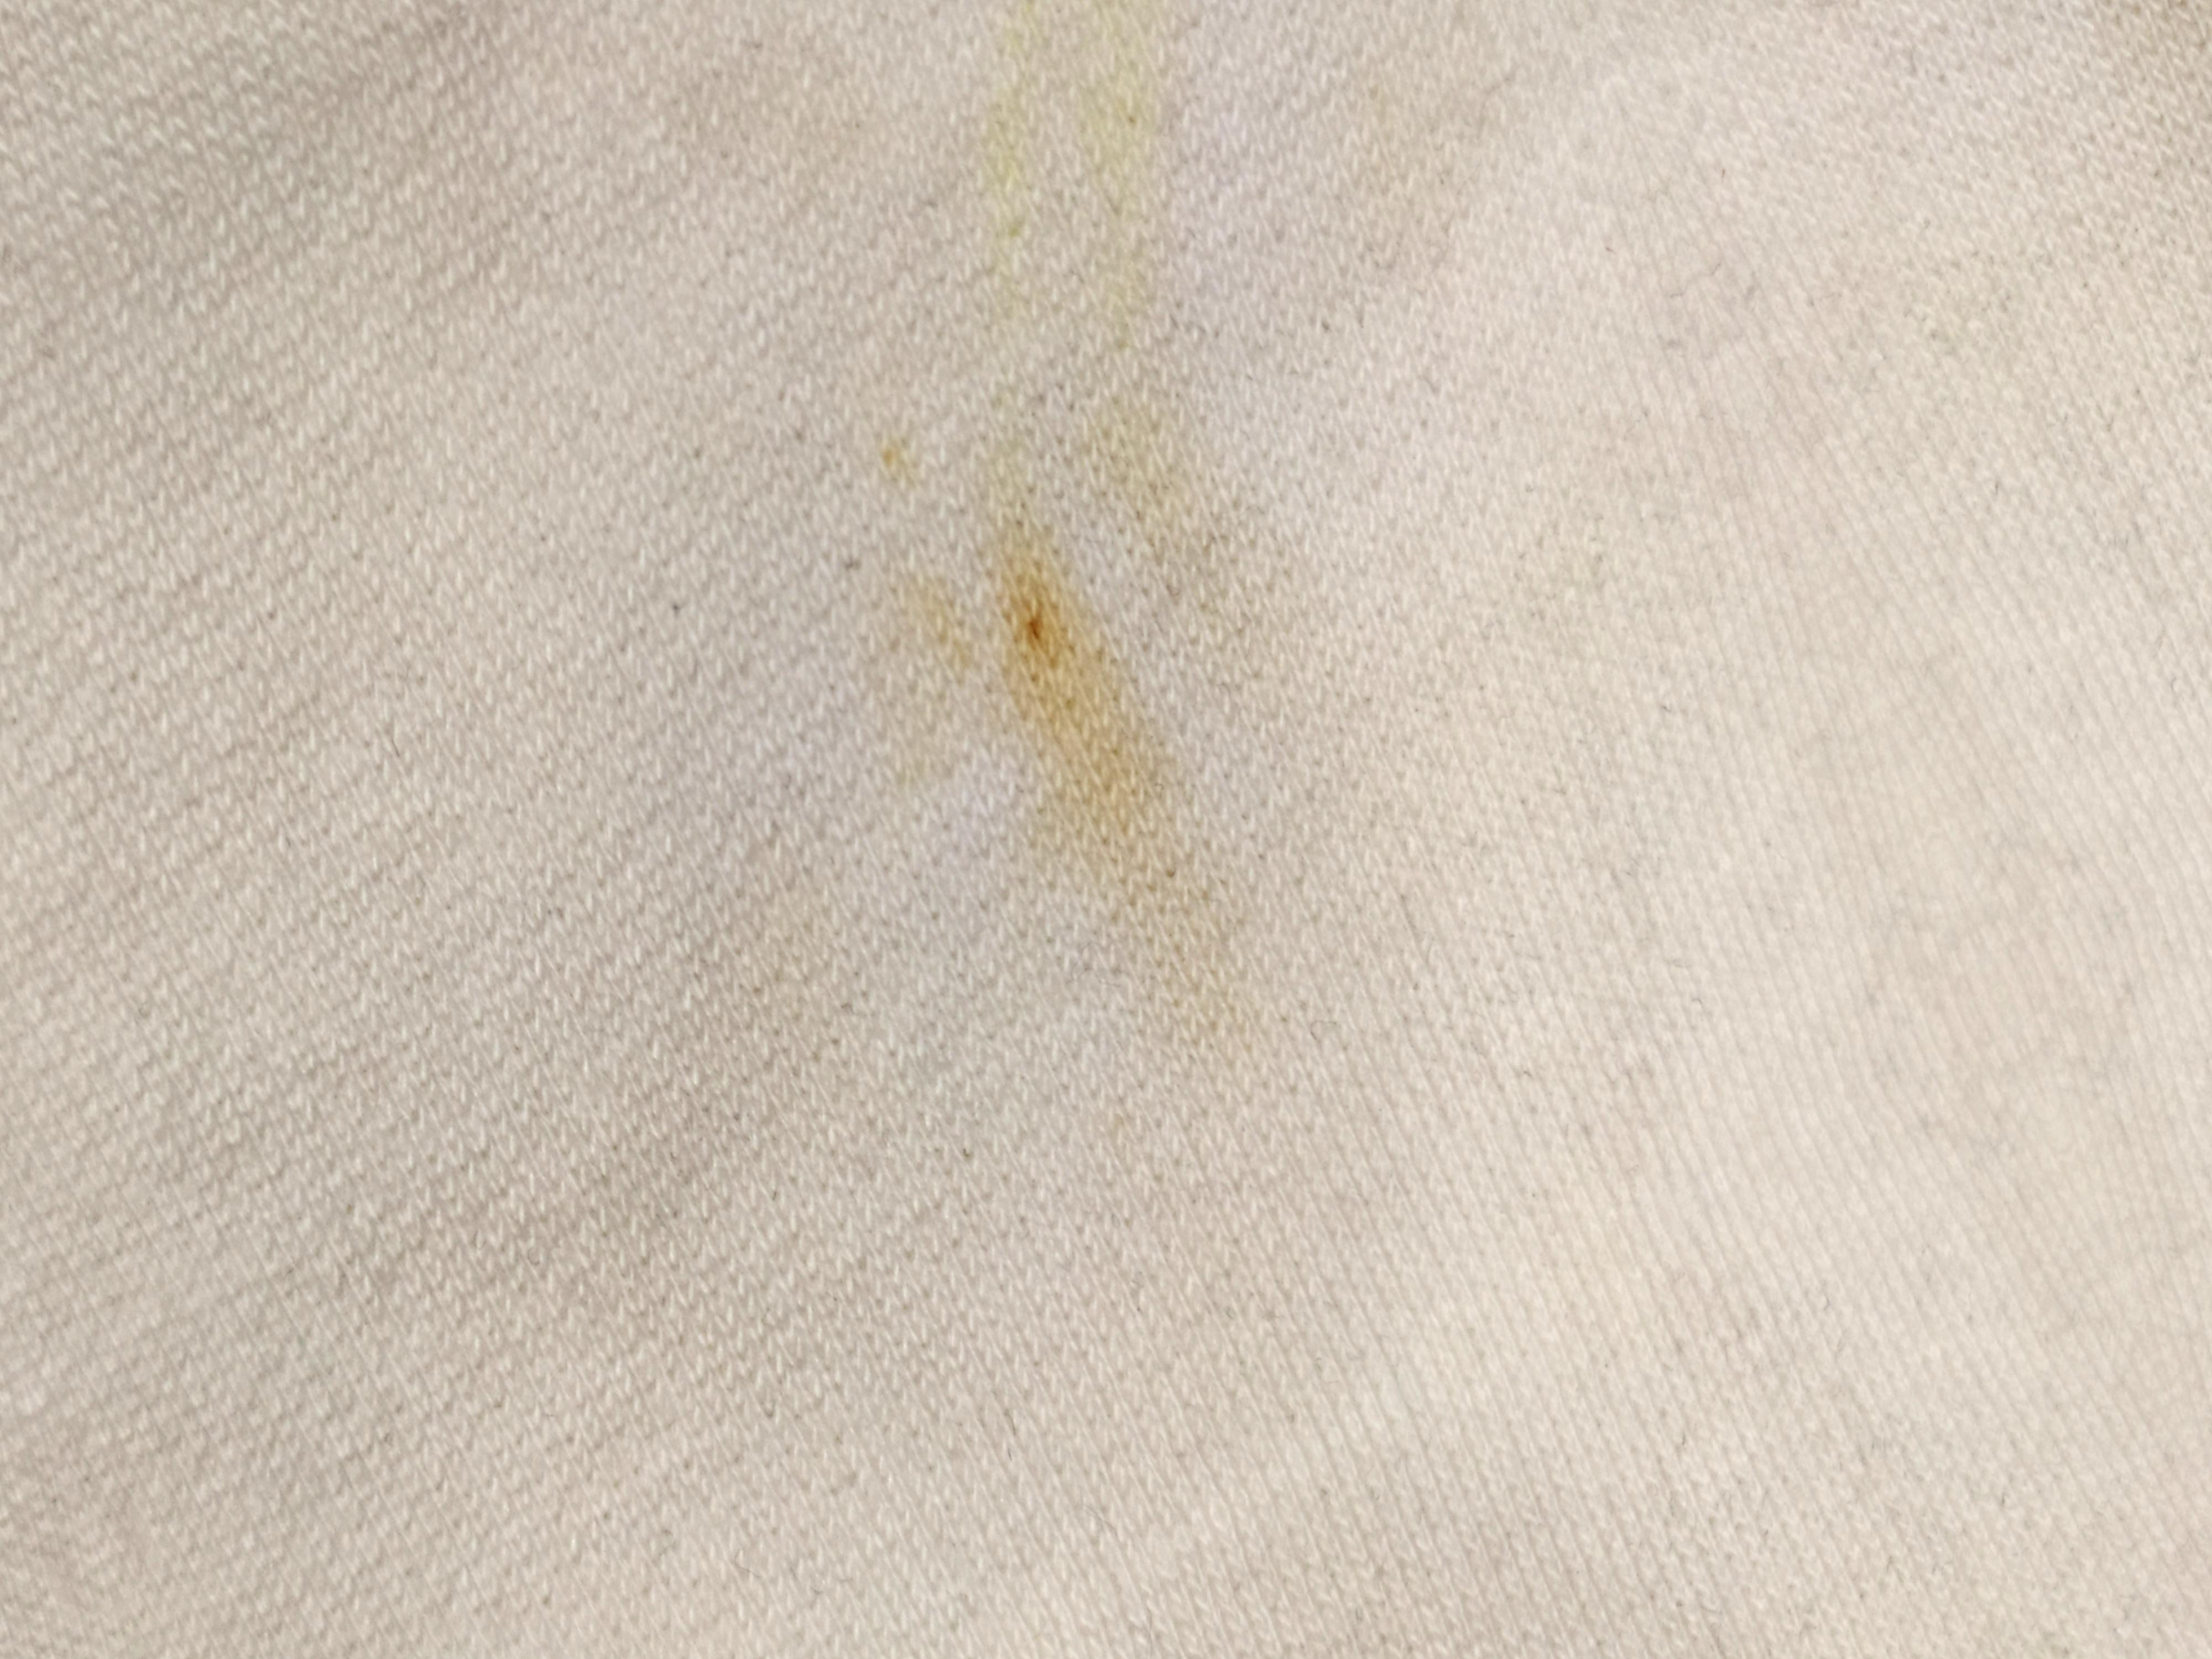stain: (981, 512, 1195, 885)
